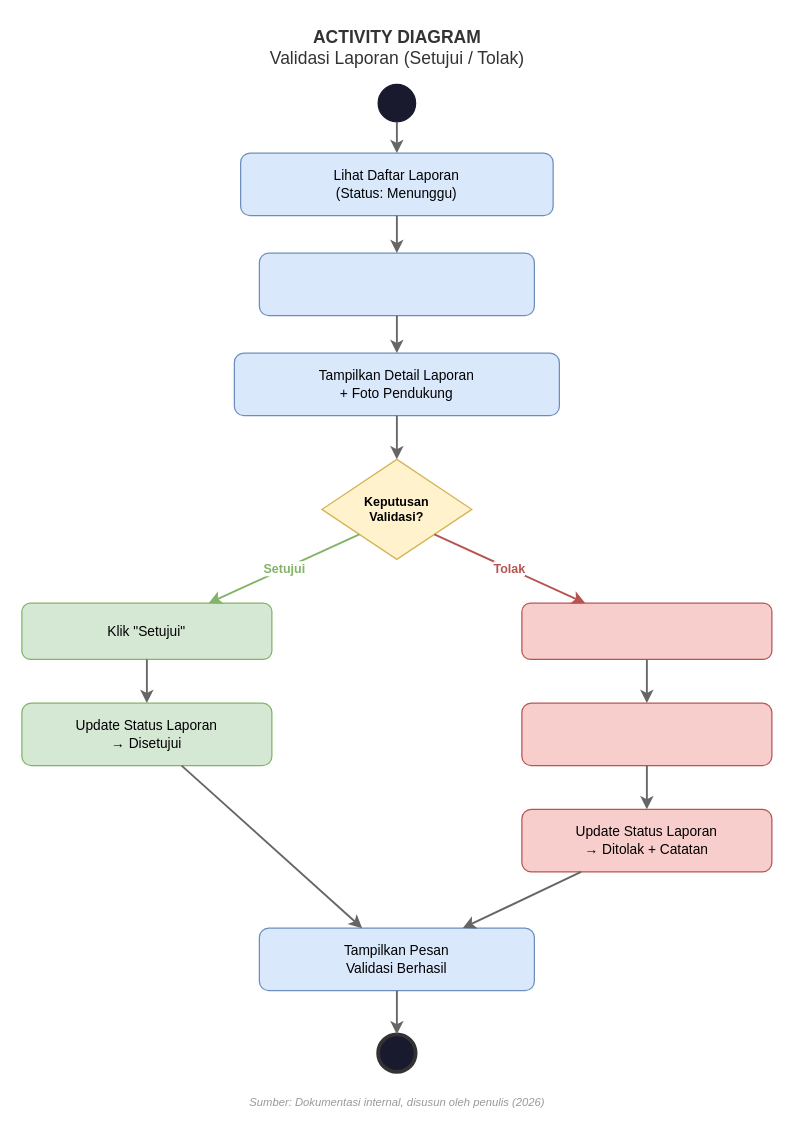
Some shapes in this 794 by 1136 pixel diagram are drawn without their labels. The centre of each missing label's shape, as x and y in pixels:
Input Catatan Alasan Penolakan (Wajib): (x=646, y=734)
Klik "Tolak": (x=646, y=630)
Pilih Laporan untuk di-Review: (x=396, y=284)
